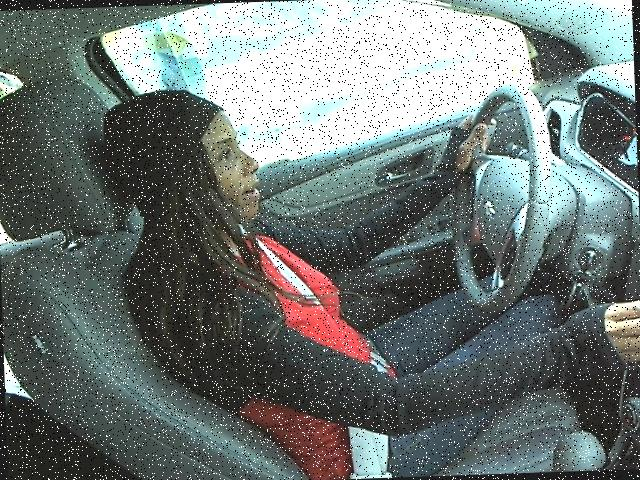c3 - Operating the Radio: (95, 63, 639, 434)
